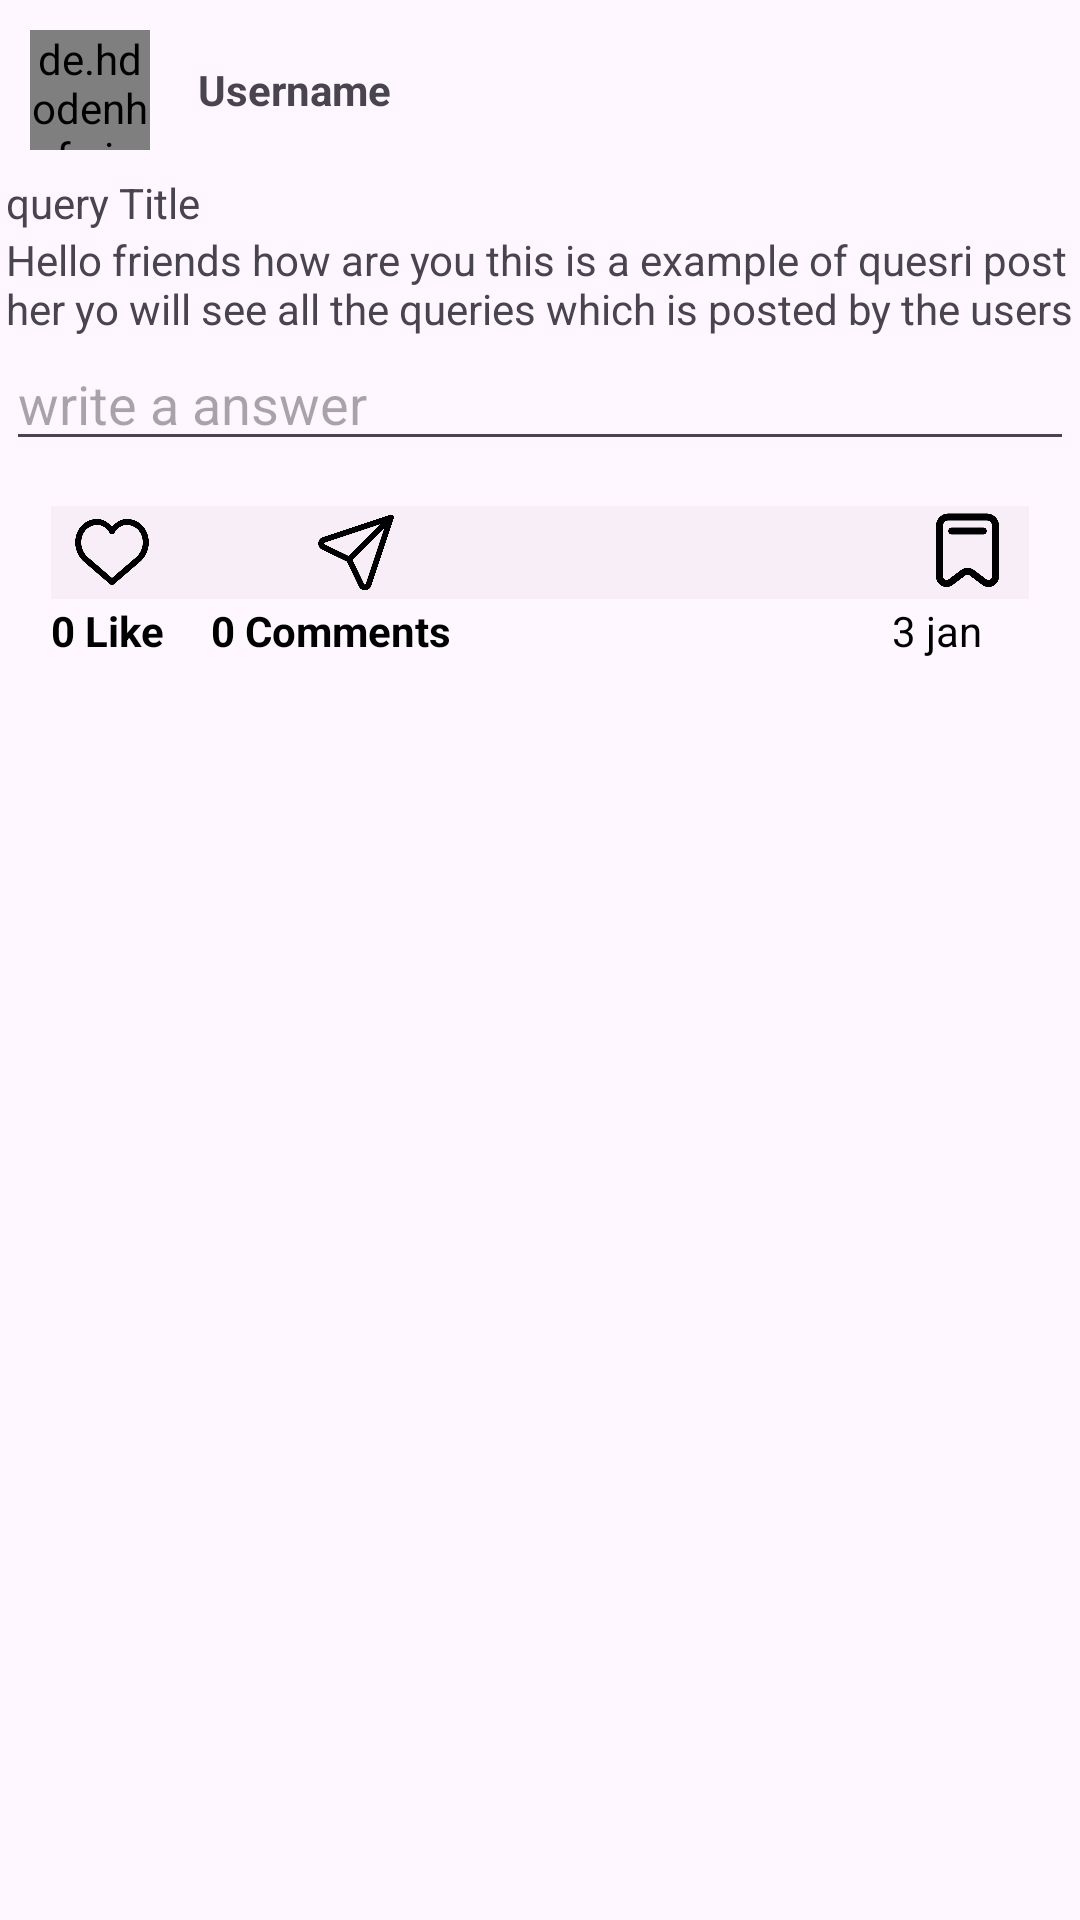

Icons on this 1080x1920 Android screen, each with the point to tap as (x,y):
bookmark: (967,550)
direct: (356,552)
heart: (112,552)
